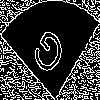G: (25, 25, 68, 86)
